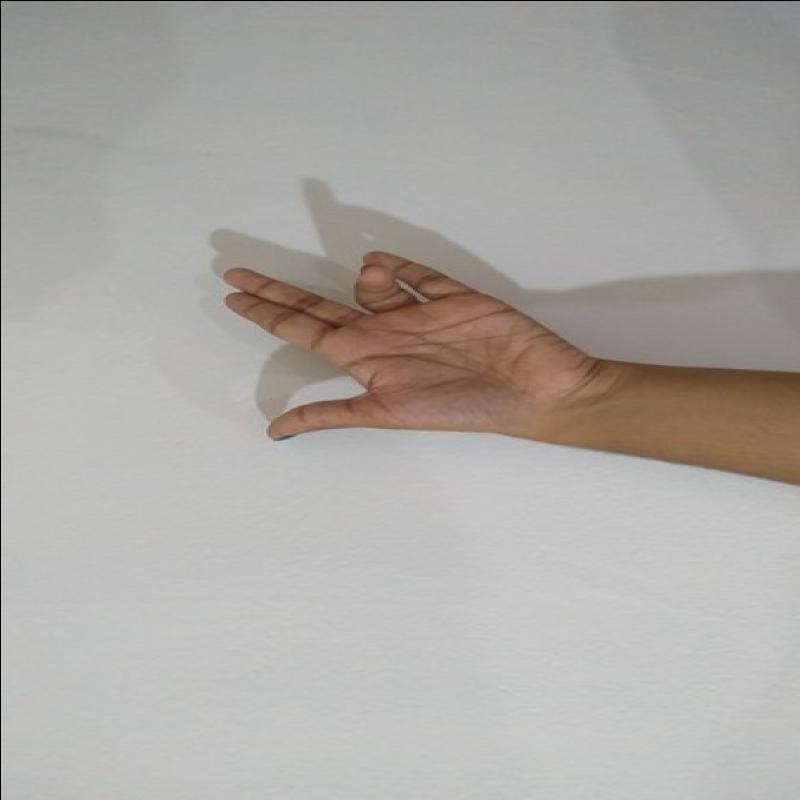Pathaaka: (204, 245, 589, 463)
